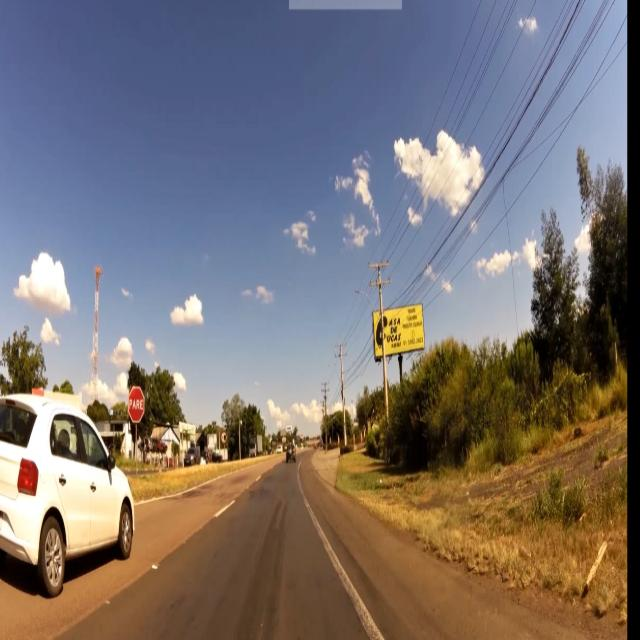R-1: (128, 386, 146, 424)
